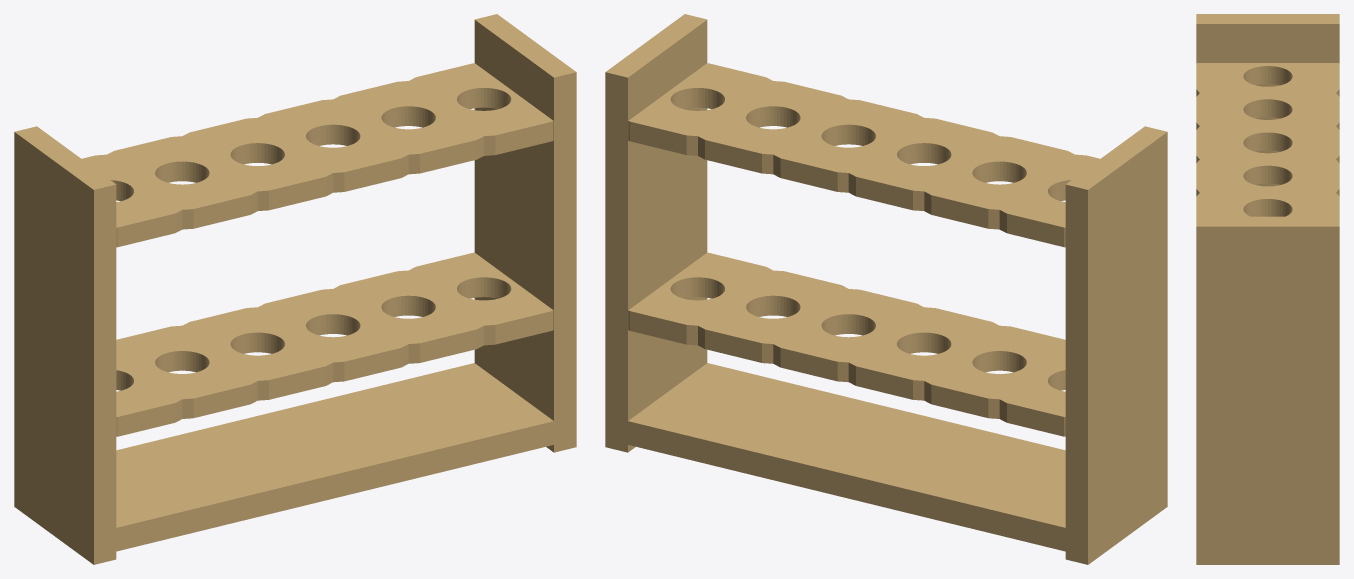
File: preview.glb
The picture shows the model from 3 angles, left to right: view 1: azimuth 30°, elevation 25°; view 2: azimuth 150°, elevation 25°; view 3: azimuth 270°, elevation 25°; orthographic projection. The views are drawn at different scales.
Parts seen in each view (by area): view 1: Rack_Rack; view 2: Rack_Rack; view 3: Rack_Rack.
Boxes of the visible parts, x1=… form: Rack_Rack: x1=14, y1=14, x2=576, y2=564; Rack_Rack: x1=605, y1=14, x2=1167, y2=564; Rack_Rack: x1=1196, y1=14, x2=1339, y2=564.
Size of the model in its own units: 0.256 by 0.19 by 0.073.
